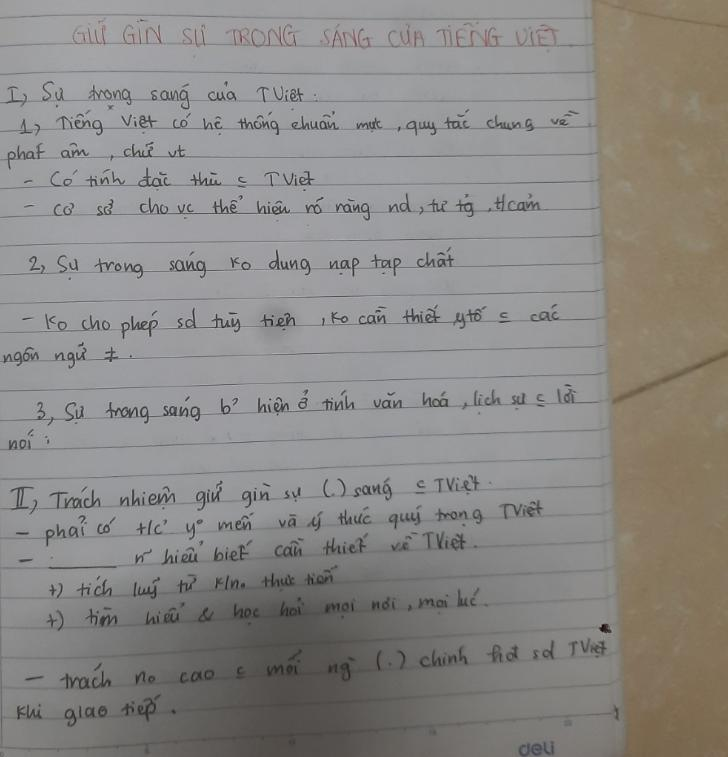text: (23, 633, 609, 696), (12, 497, 547, 552), (33, 380, 580, 430), (19, 300, 562, 343), (8, 471, 482, 520), (46, 583, 483, 634), (17, 104, 581, 141), (20, 188, 543, 227), (69, 14, 561, 53), (27, 244, 457, 284), (130, 528, 468, 570), (47, 562, 341, 604), (3, 78, 319, 112), (21, 164, 318, 197), (13, 689, 164, 731), (4, 138, 188, 172), (1, 339, 120, 372), (6, 427, 53, 456), (514, 738, 560, 757)
